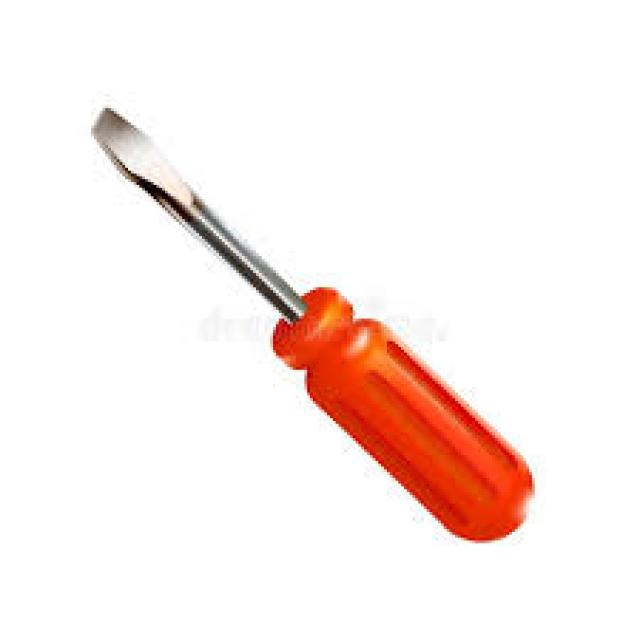screw driver: (58, 87, 592, 620)
